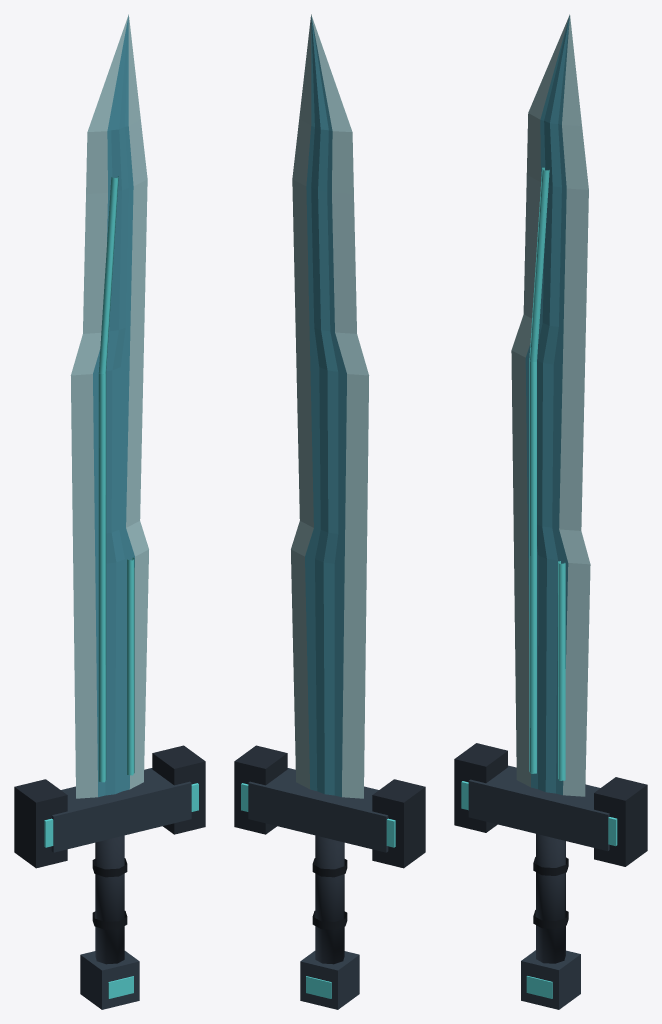
Rendered from influx_waver.glb.
3 views of the same model, side by side, from view 1: azimuth 30°, elevation 25°; view 2: azimuth 150°, elevation 25°; view 3: azimuth 330°, elevation 25° (orthographic).
Parts seen in each view (by area): view 1: influx_waver_v0; view 2: influx_waver_v0; view 3: influx_waver_v0.
Boxes of the visible parts, box(x1,y1,x2,y2) form: influx_waver_v0: box(14, 14, 205, 1009); influx_waver_v0: box(234, 14, 425, 1009); influx_waver_v0: box(454, 14, 647, 1009).
Size of the model in its own units: 0.27 by 1.49 by 0.07.
